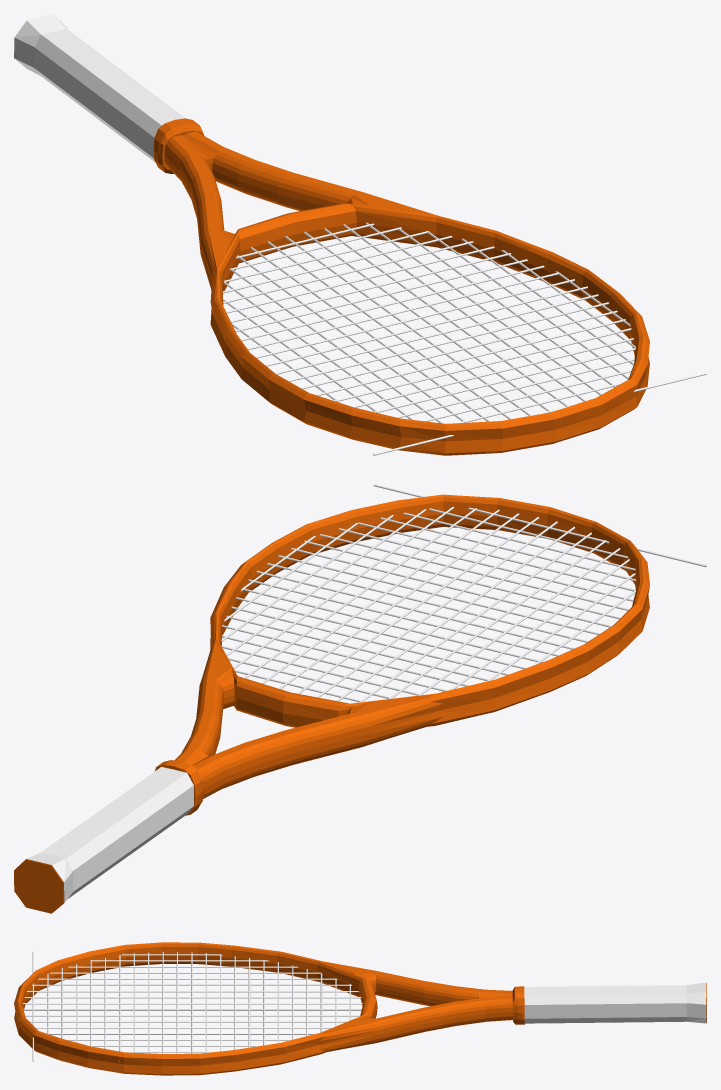
Rendered from Tennis Racket.obj.
The picture shows the model from 3 angles, top to bottom: view 1: azimuth 30°, elevation 25°; view 2: azimuth 150°, elevation 25°; view 3: azimuth 270°, elevation 25°; orthographic projection. The views are drawn at different scales.
Visible parts, largest first — view 1: frame, Cylinder_10_1, Cylinder_11_1, Cylinder_9_1, Cylinder_12_1, Cylinder_8_1, Cylinder_13_1, Cylinder_7_1, Cylinder_14_1, Cylinder_6_1, Cylinder_9, Cylinder_8 (+12 smaller); view 2: frame, Cylinder_10_1, Cylinder_8_1, Cylinder_9_1, Cylinder_11_1, Cylinder_7_1, Cylinder_12_1, Cylinder_6_1, Cylinder_13_1, Cylinder_5_1, Cylinder_8, Cylinder_14_1 (+13 smaller); view 3: frame, Cylinder_9, Cylinder_8, Cylinder_10, Cylinder_7, Cylinder_5, Cylinder_6, Cylinder_11, Cylinder_4, Cylinder_12, Cylinder_3, Cylinder_13 (+5 smaller).
Boxes of the visible parts, box(x1,y1,x2,y2) form: frame: box(14, 14, 649, 455); Cylinder_10_1: box(275, 294, 598, 374); Cylinder_11_1: box(265, 286, 587, 366); Cylinder_9_1: box(287, 302, 609, 381); Cylinder_12_1: box(256, 279, 574, 358); Cylinder_8_1: box(300, 310, 617, 389); Cylinder_13_1: box(247, 272, 558, 349); Cylinder_7_1: box(315, 319, 625, 395); Cylinder_14_1: box(241, 265, 544, 341); Cylinder_6_1: box(309, 328, 631, 408); Cylinder_9: box(304, 232, 551, 412); Cylinder_8: box(285, 236, 530, 415); frame: box(14, 494, 649, 913); Cylinder_10_1: box(267, 563, 588, 642); Cylinder_8_1: box(291, 548, 611, 627); Cylinder_9_1: box(278, 555, 600, 634); Cylinder_11_1: box(256, 570, 574, 649); Cylinder_7_1: box(304, 540, 620, 619); Cylinder_12_1: box(248, 579, 559, 656); Cylinder_6_1: box(320, 534, 642, 613); Cylinder_13_1: box(243, 588, 543, 662); Cylinder_5_1: box(338, 528, 633, 601); Cylinder_8: box(316, 521, 557, 697); Cylinder_14_1: box(236, 597, 526, 669); frame: box(14, 942, 706, 1075); Cylinder_9: box(23, 1009, 361, 1010); Cylinder_8: box(23, 1003, 362, 1004); Cylinder_10: box(25, 1015, 359, 1016); Cylinder_7: box(24, 997, 361, 998); Cylinder_5: box(32, 984, 351, 985); Cylinder_6: box(27, 991, 358, 992); Cylinder_11: box(29, 1021, 347, 1022); Cylinder_4: box(38, 978, 337, 979); Cylinder_12: box(35, 1027, 332, 1028); Cylinder_3: box(50, 972, 320, 973); Cylinder_13: box(48, 1033, 315, 1034).
Size of the model in its own units: 130 by 18.37 by 330.
